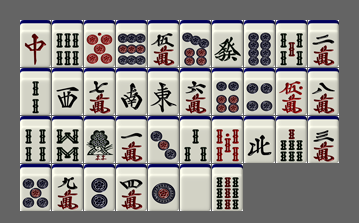0m: (276, 68, 307, 115)
0p: (84, 20, 115, 67)
0s: (212, 116, 243, 163)
1m: (116, 116, 147, 163)
1p: (148, 164, 179, 211)
1s: (84, 116, 115, 163)
1z: (148, 68, 179, 115)
2m: (308, 20, 339, 67)
2p: (84, 164, 115, 211)
2s: (20, 68, 51, 115)
2z: (116, 68, 147, 115)
3m: (308, 116, 339, 163)
3p: (148, 116, 179, 163)
3s: (180, 116, 211, 163)
3z: (52, 68, 83, 115)
4m: (116, 164, 147, 211)
4p: (244, 68, 275, 115)
4s: (20, 116, 51, 163)
4z: (244, 116, 275, 163)
5m: (148, 20, 179, 67)
5p: (20, 164, 51, 211)
5s: (276, 20, 307, 67)
5z: (180, 164, 211, 211)
6m: (180, 68, 211, 115)
6p: (212, 68, 243, 115)
6s: (52, 20, 83, 67)
6z: (212, 20, 243, 67)
7m: (84, 68, 115, 115)
7p: (180, 20, 211, 67)
7s: (276, 116, 307, 163)
7z: (20, 20, 51, 67)
8m: (308, 68, 339, 115)
8p: (244, 20, 275, 67)
8s: (52, 116, 83, 163)
9m: (52, 164, 83, 211)
9p: (116, 20, 147, 67)
9s: (212, 164, 243, 211)
